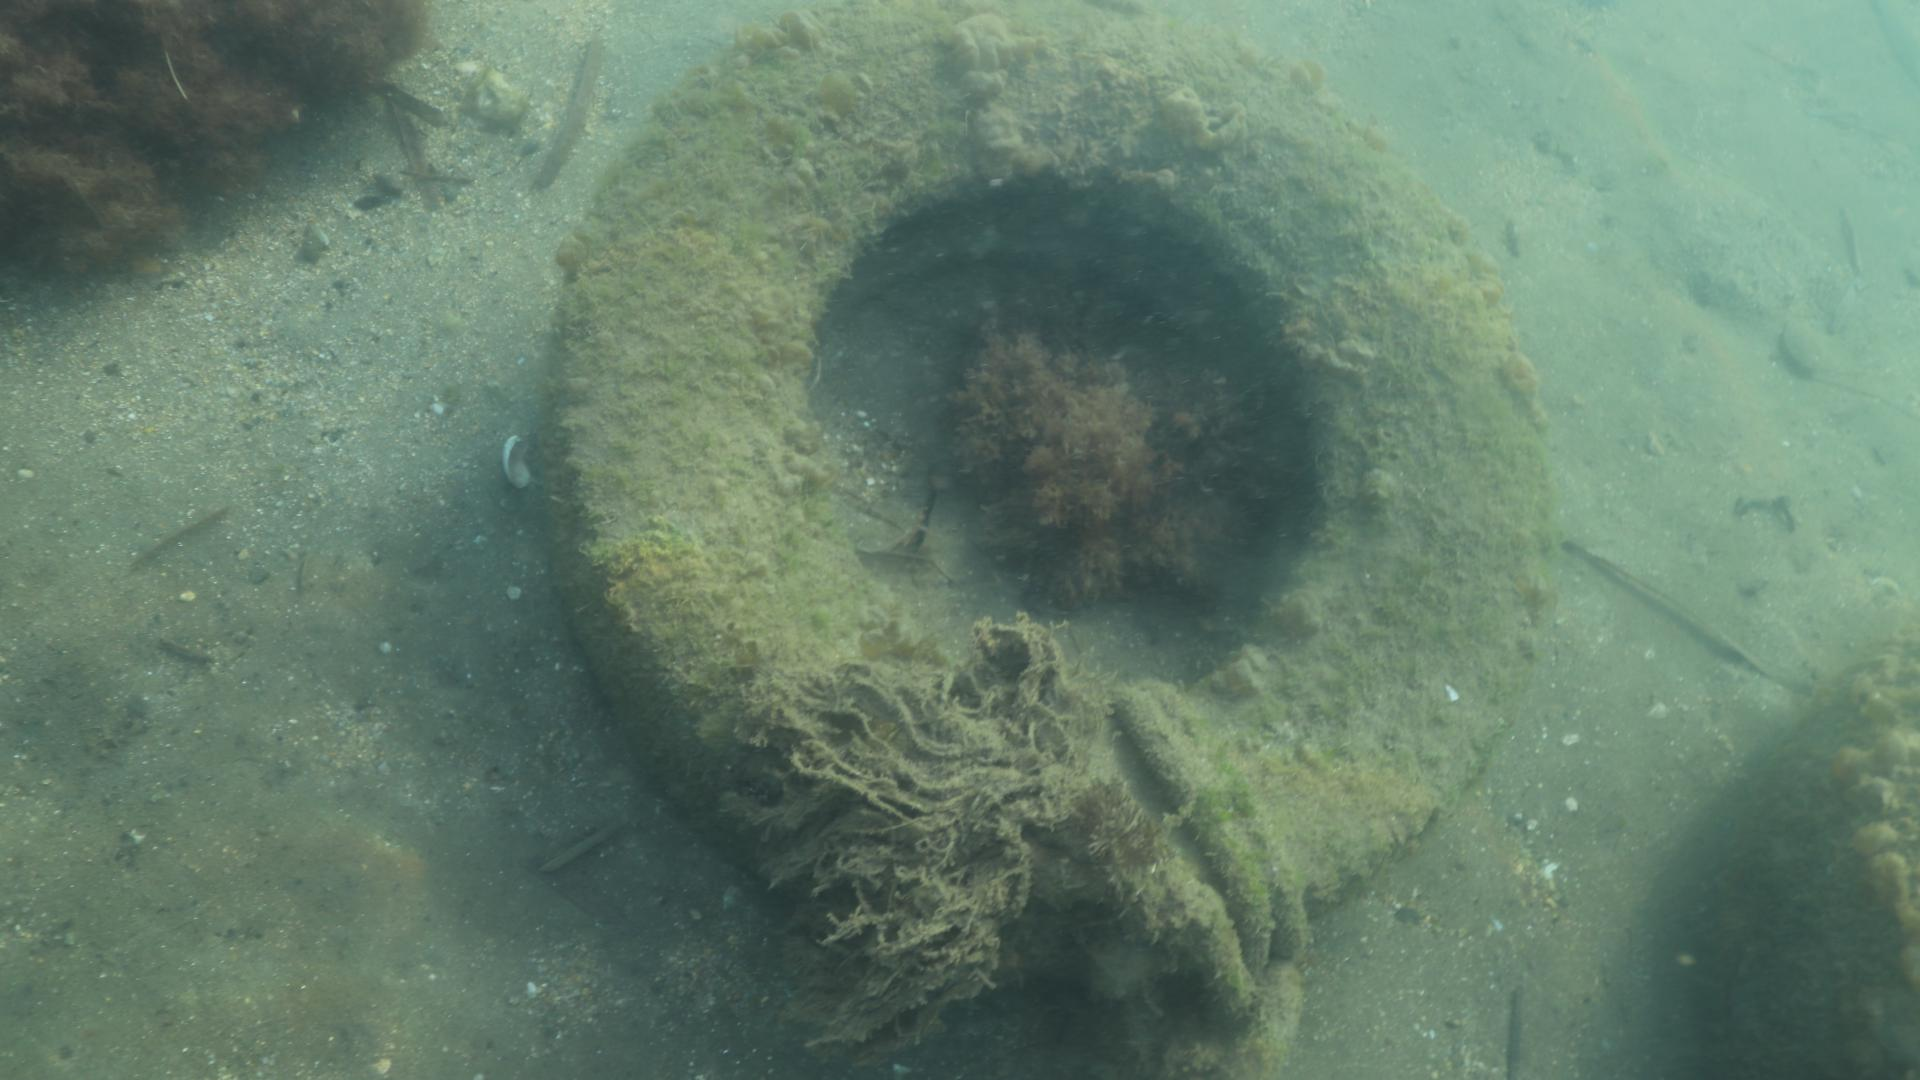tire: (539, 0, 1544, 1011)
